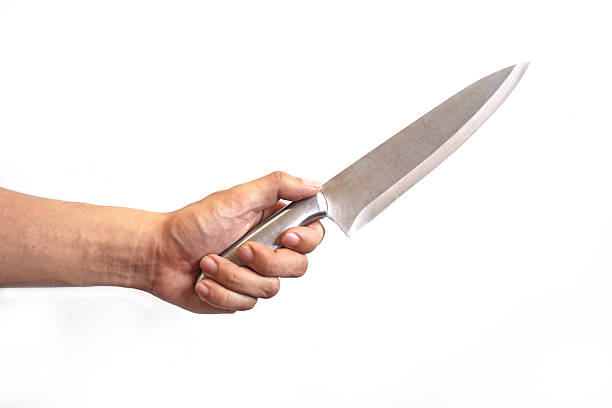knife: (196, 61, 528, 286)
